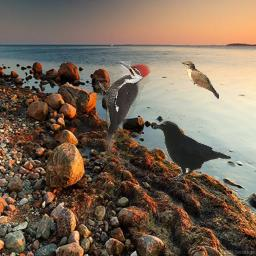Crow: (151, 119, 231, 180)
Cuckoo: (181, 61, 219, 99)
Woodpecker: (95, 61, 151, 153)
